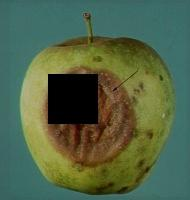rotten apple: (19, 35, 183, 197)
